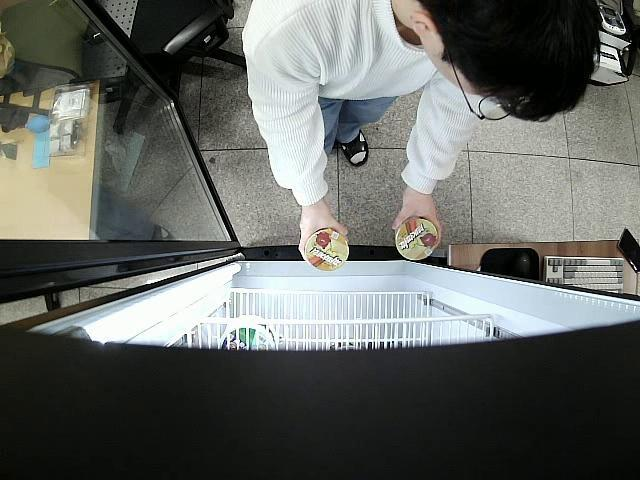04_chapagetti_S: (302, 228, 348, 271), (395, 216, 439, 260)
